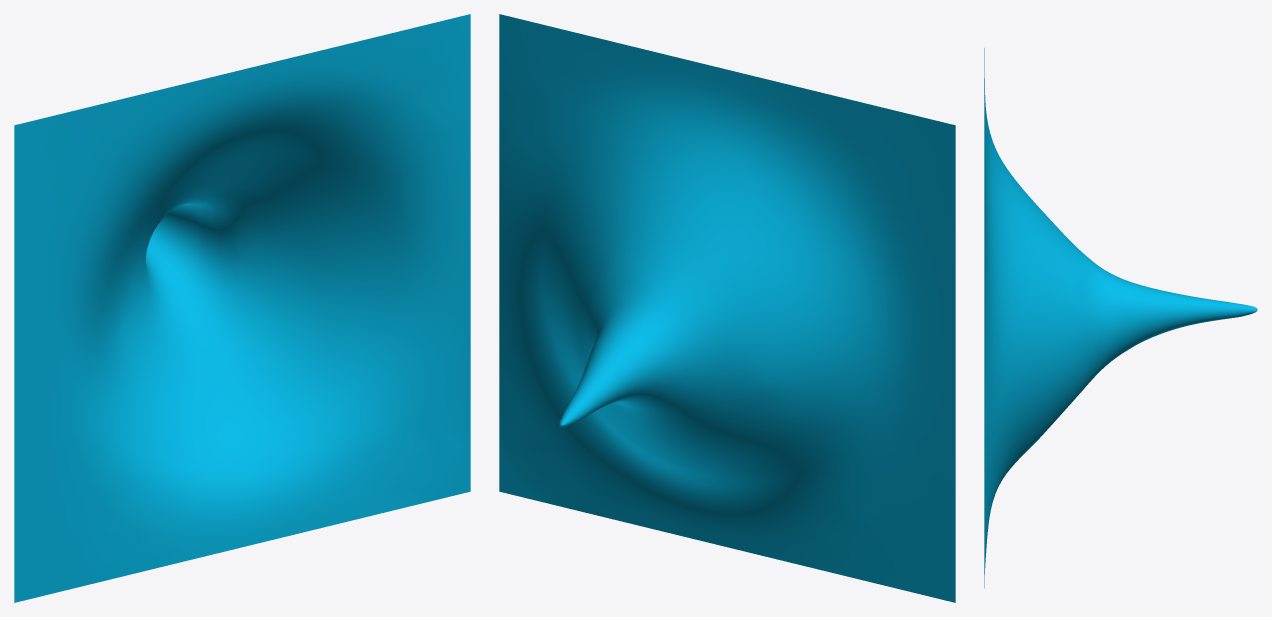
The model's file is agujero.fbx.
3 renders of one model, left to right at view 1: azimuth 30°, elevation 25°; view 2: azimuth 150°, elevation 25°; view 3: azimuth 270°, elevation 25°, orthographic. The views are drawn at different scales.
Visible parts, largest first — view 1: PM3D_Plane3D1; view 2: PM3D_Plane3D1; view 3: PM3D_Plane3D1.
Part boxes in pixels (x1,y1,x2,y2): PM3D_Plane3D1: [14, 14, 470, 602]; PM3D_Plane3D1: [499, 14, 955, 602]; PM3D_Plane3D1: [984, 48, 1257, 588].
Bounding box in the file's own units: 5376 × 5376 × 3314.
